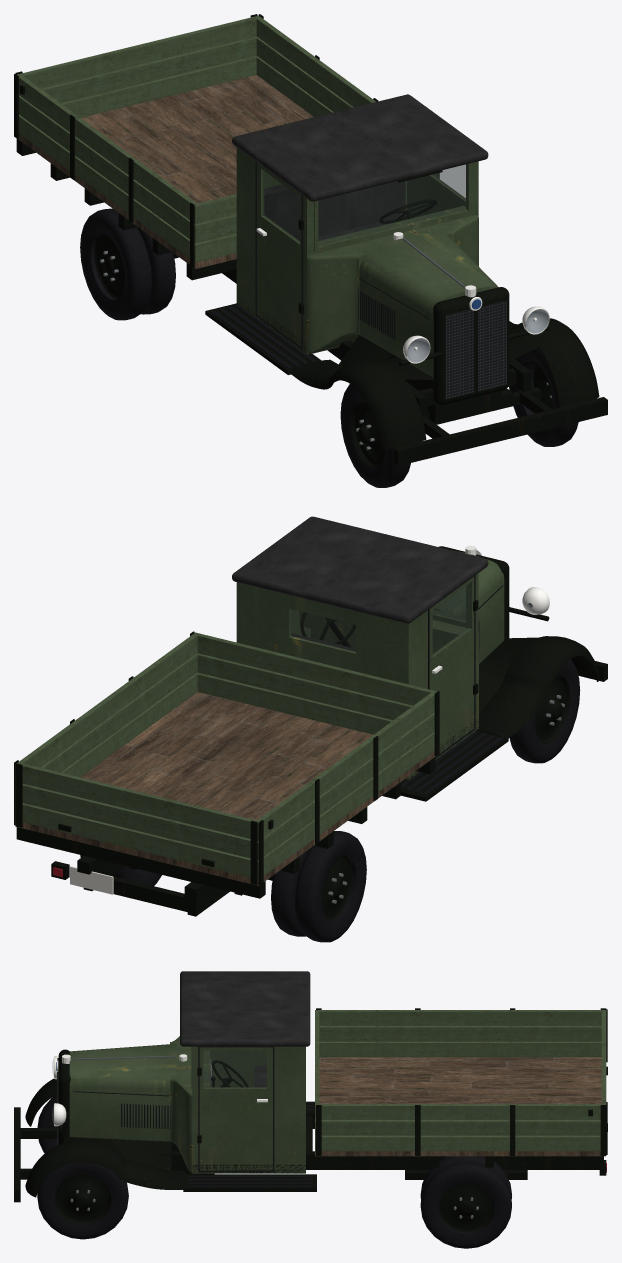
Rendered from gaz_aa.glb.
The picture shows the model from 3 angles, top to bottom: view 1: azimuth 30°, elevation 25°; view 2: azimuth 150°, elevation 25°; view 3: azimuth 270°, elevation 25°; orthographic projection. The views are drawn at different scales.
Parts seen in each view (by area): view 1: gaz_aa; view 2: gaz_aa; view 3: gaz_aa.
Boxes of the visible parts, x1=… form: gaz_aa: x1=14, y1=14, x2=607, y2=487; gaz_aa: x1=14, y1=516, x2=607, y2=942; gaz_aa: x1=14, y1=971, x2=607, y2=1248.
Bounding box in the file's own units: 2.1 × 1.97 × 5.33.
Materials: 20 (7 with a texture image).
